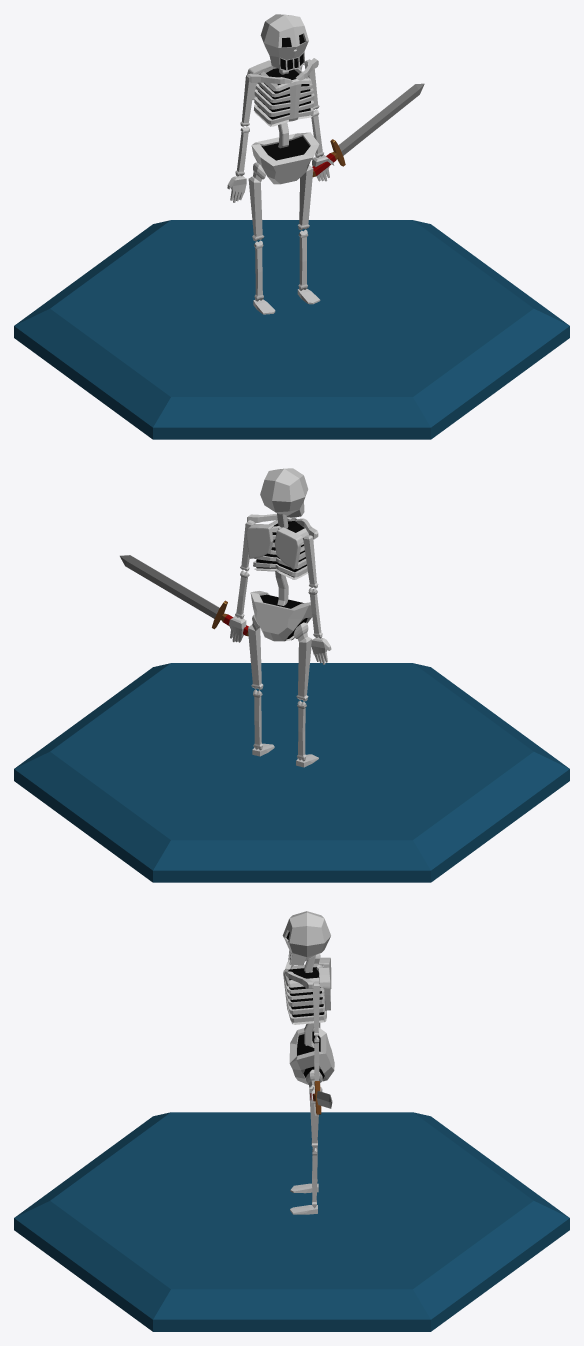
The model's file is Sword_Figure_Scalone.fbx.
3 views of the same model, one above another, from view 1: azimuth 30°, elevation 25°; view 2: azimuth 150°, elevation 25°; view 3: azimuth 270°, elevation 25° (orthographic).
Visible parts, largest first — view 1: Left Foot; view 2: Left Foot; view 3: Left Foot.
Boxes of the visible parts, box(x1,y1,x2,y2) form: Left Foot: box(14, 14, 569, 439); Left Foot: box(14, 468, 569, 882); Left Foot: box(14, 911, 569, 1331).
Bounding box in the file's own units: 483 × 352 × 558.
